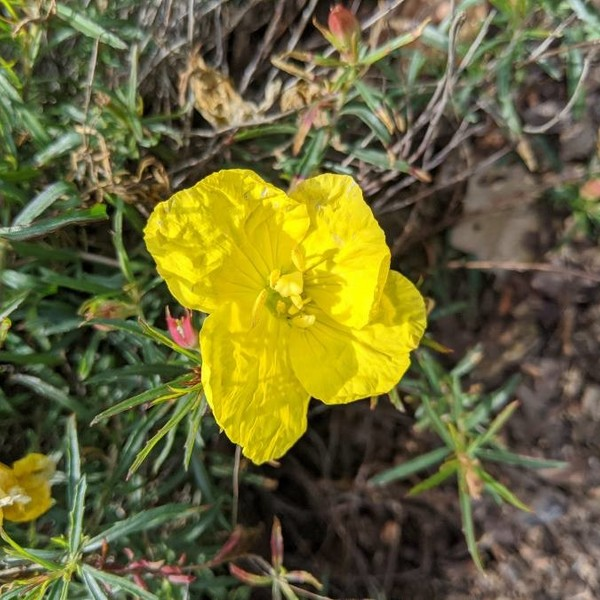obstacle: (142, 141, 447, 492)
